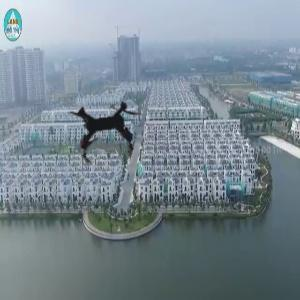drone: (43, 61, 175, 193)
